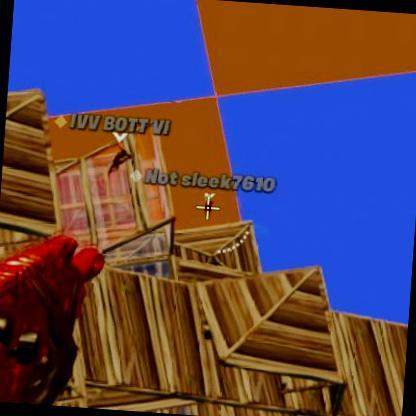person: (0, 241, 109, 408), (116, 136, 127, 172)
